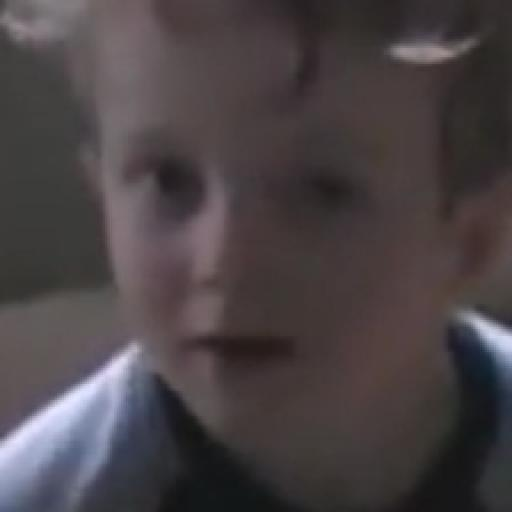Autism: (67, 5, 512, 447)
